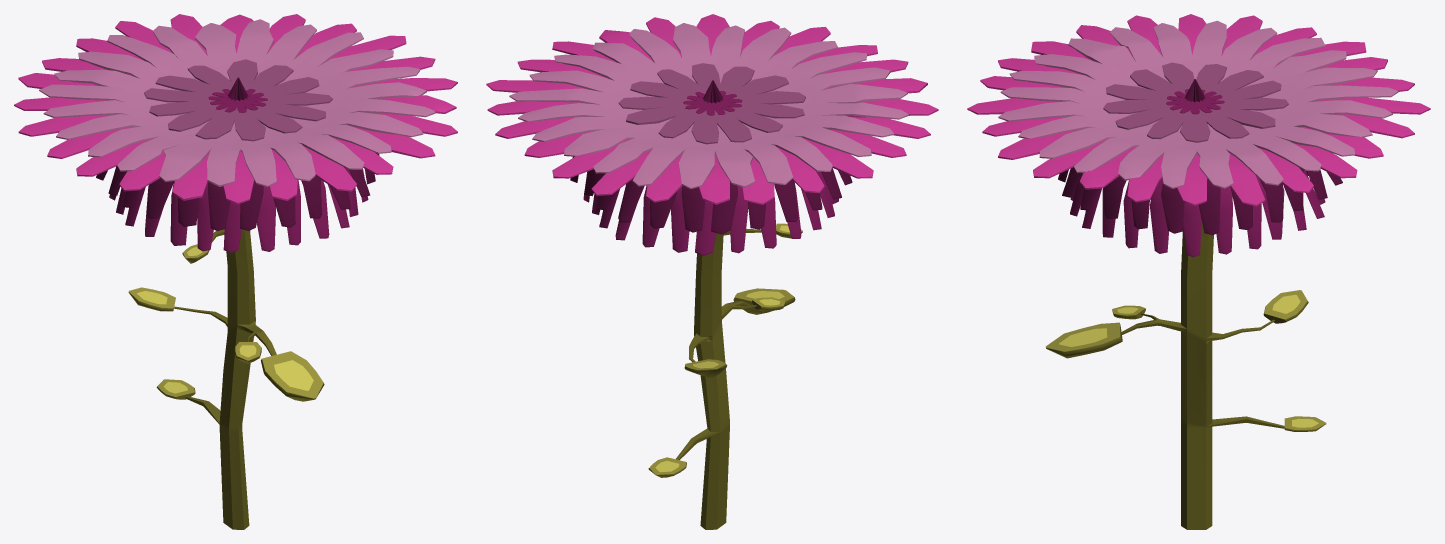
Rendered from Planta Aberta_8H.fbx.
The picture shows the model from 3 angles, left to right: view 1: azimuth 30°, elevation 25°; view 2: azimuth 150°, elevation 25°; view 3: azimuth 270°, elevation 25°; orthographic projection.
Parts seen in each view (by area): view 1: pCylinder2, pCylinder1, pCylinder3, pCube4, pCylinder6, pCylinder5, pCube5, pCylinder4, pCube8, pCube7; view 2: pCylinder2, pCylinder1, pCylinder3, pCube4, pCylinder6, pCylinder5, pCylinder4, pCube5, pCube8, pCube7; view 3: pCylinder2, pCylinder1, pCube4, pCylinder3, pCylinder6, pCylinder5, pCube5, pCube8, pCylinder4, pCube7.
Part boxes in pixels (left/top/right/bottom): pCylinder2: left=39, top=19, right=435, bottom=186; pCylinder1: left=14, top=14, right=457, bottom=204; pCylinder3: left=144, top=59, right=332, bottom=141; pCube4: left=174, top=229, right=276, bottom=529; pCylinder6: left=109, top=167, right=368, bottom=252; pCylinder5: left=96, top=153, right=379, bottom=230; pCube5: left=261, top=351, right=324, bottom=401; pCylinder4: left=208, top=89, right=267, bottom=112; pCube8: left=128, top=287, right=175, bottom=311; pCube7: left=156, top=379, right=195, bottom=399; pCylinder2: left=509, top=23, right=908, bottom=188; pCylinder1: left=486, top=14, right=938, bottom=204; pCylinder3: left=618, top=63, right=805, bottom=144; pCube4: left=676, top=229, right=761, bottom=529; pCylinder6: left=583, top=171, right=838, bottom=255; pCylinder5: left=570, top=156, right=852, bottom=234; pCylinder4: left=683, top=90, right=742, bottom=115; pCube5: left=733, top=288, right=795, bottom=314; pCube8: left=684, top=359, right=727, bottom=378; pCube7: left=648, top=457, right=686, bottom=477; pCylinder2: left=998, top=20, right=1398, bottom=188; pCylinder1: left=967, top=14, right=1430, bottom=206; pCube4: left=1121, top=220, right=1284, bottom=529; pCylinder3: left=1103, top=62, right=1288, bottom=142; pCylinder6: left=1070, top=170, right=1325, bottom=257; pCylinder5: left=1058, top=153, right=1342, bottom=235; pCube5: left=1045, top=322, right=1122, bottom=358; pCube8: left=1263, top=290, right=1308, bottom=323; pCylinder4: left=1166, top=89, right=1224, bottom=114; pCube7: left=1284, top=416, right=1326, bottom=431.
Bounding box in the file's own units: 782 × 854 × 801.
